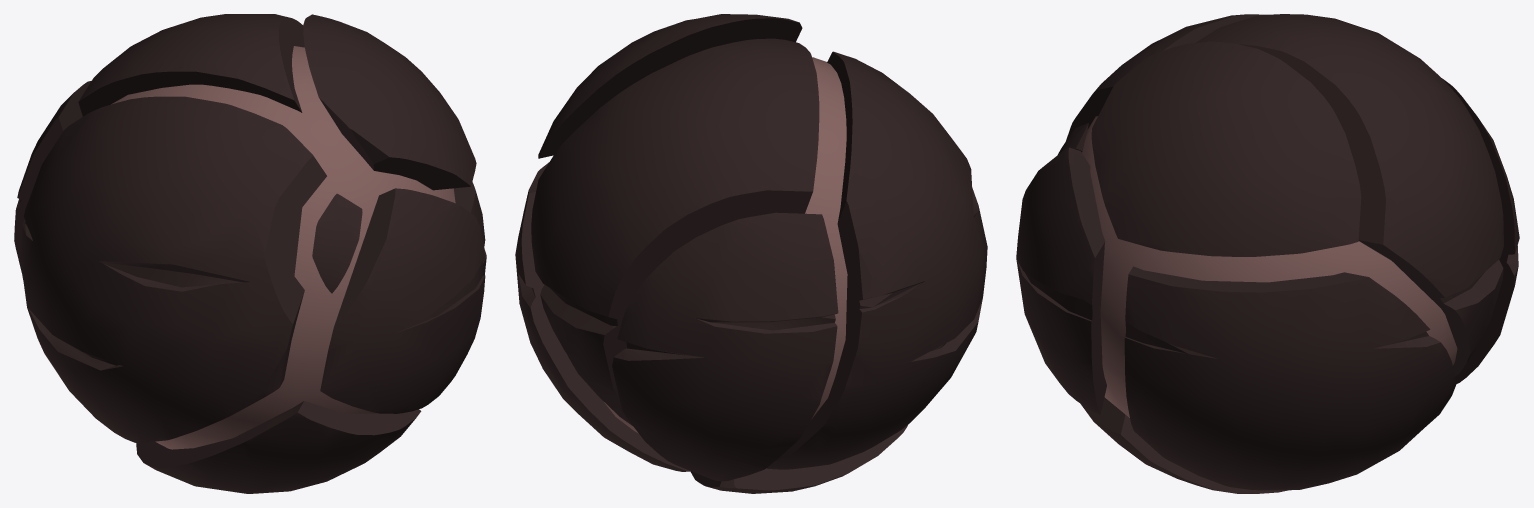
Rendered from quaternius-ultimate-space-pack-planet-11-transformed.glb.
3 views of the same model, side by side, from view 1: azimuth 30°, elevation 25°; view 2: azimuth 150°, elevation 25°; view 3: azimuth 270°, elevation 25° (orthographic). The views are drawn at different scales.
Visible parts, largest first — view 1: Planet_11; view 2: Planet_11; view 3: Planet_11.
Boxes of the visible parts, left/top/right/bottom form: Planet_11: left=14, top=14, right=486, bottom=493; Planet_11: left=515, top=14, right=987, bottom=493; Planet_11: left=1016, top=14, right=1519, bottom=493.
Size of the model in its own units: 5.59 by 5.67 by 5.74.
Materials: 1 (1 with a texture image).
